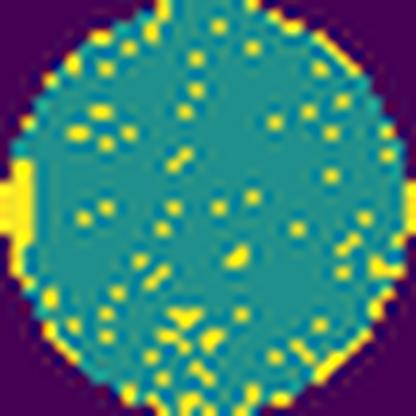Edge-Loc: (0, 155, 41, 298)
